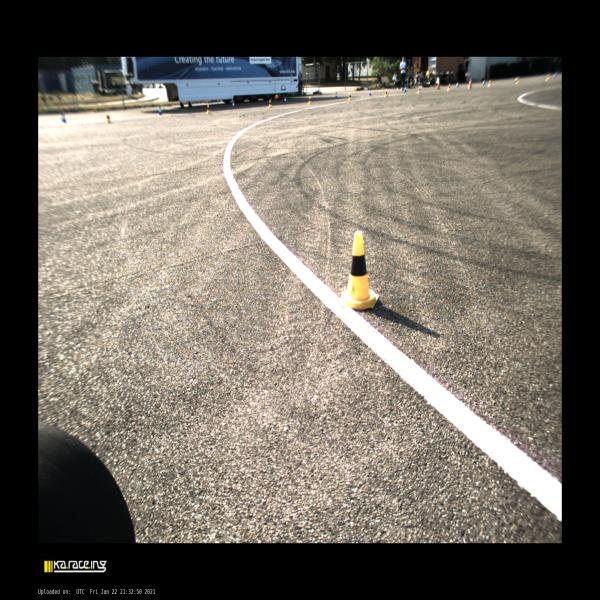blue_cone: (158, 106, 163, 115), (368, 89, 372, 96), (232, 101, 235, 108), (284, 96, 287, 103), (335, 91, 337, 99), (404, 86, 406, 92), (456, 82, 458, 88)
large_orange_cone: (468, 78, 471, 89), (437, 79, 440, 89)
yellow_cone: (340, 231, 379, 311), (206, 104, 211, 114), (106, 113, 111, 123), (308, 96, 312, 105), (348, 92, 352, 100), (384, 89, 388, 97), (417, 86, 421, 94), (268, 100, 272, 108), (447, 84, 450, 91)
